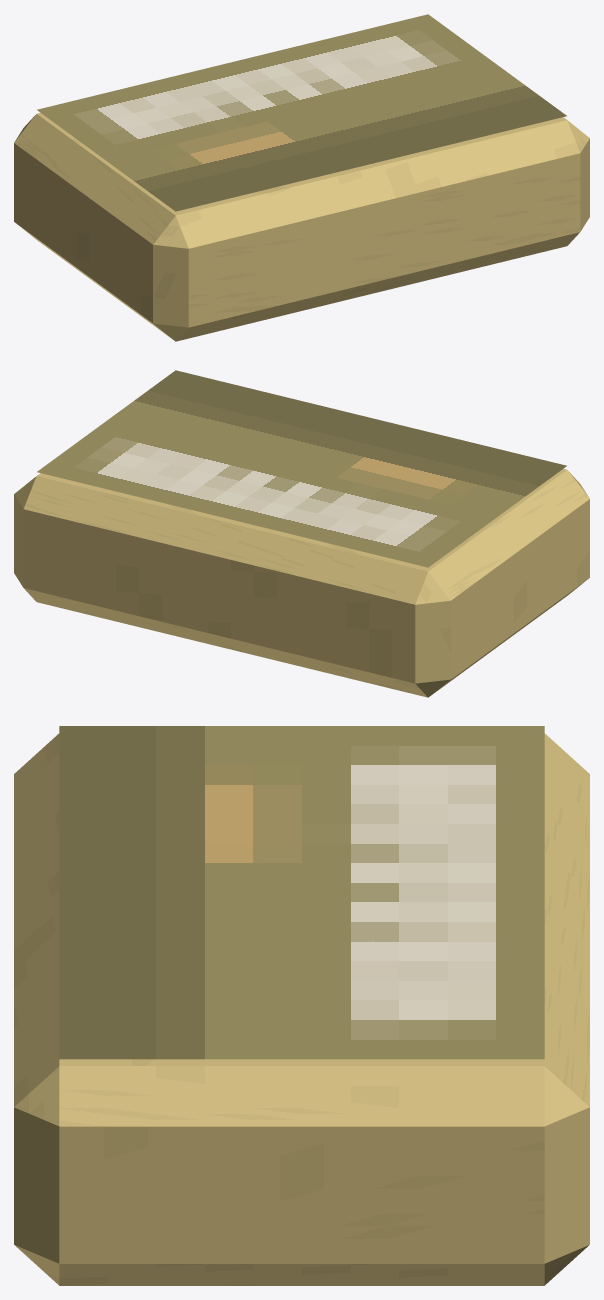
The model's file is butter.glb.
The picture shows the model from 3 angles, top to bottom: view 1: azimuth 30°, elevation 25°; view 2: azimuth 150°, elevation 25°; view 3: azimuth 270°, elevation 25°; orthographic projection. The views are drawn at different scales.
Visible parts, largest first — view 1: block_butter pat, block_butter paper; view 2: block_butter pat, block_butter paper; view 3: block_butter paper, block_butter pat.
Boxes of the visible parts, box(x1,y1,x2,y2) form: block_butter pat: box(14, 113, 589, 341); block_butter paper: box(37, 14, 566, 211); block_butter pat: box(14, 469, 589, 697); block_butter paper: box(37, 370, 566, 567); block_butter paper: box(59, 726, 544, 1059); block_butter pat: box(14, 733, 589, 1285).
Size of the model in its own units: 0.058 by 0.0165 by 0.038.
1 material, 1 textured.
